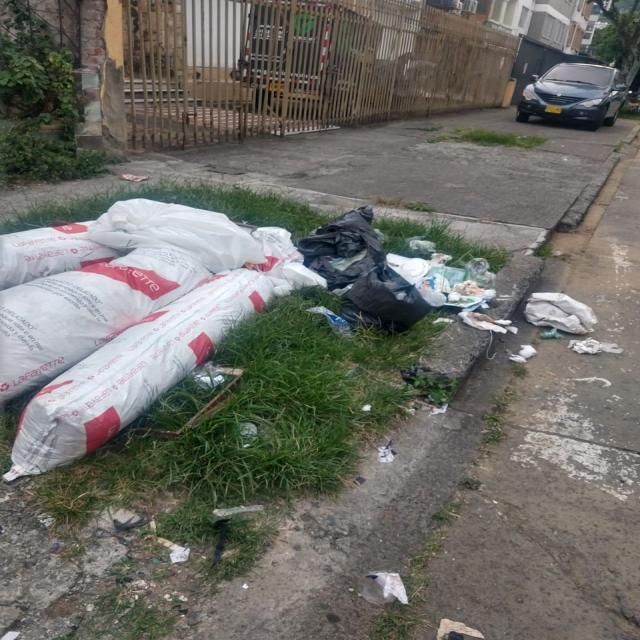Garbage_Bag: (339, 262, 441, 337), (296, 204, 396, 280)
